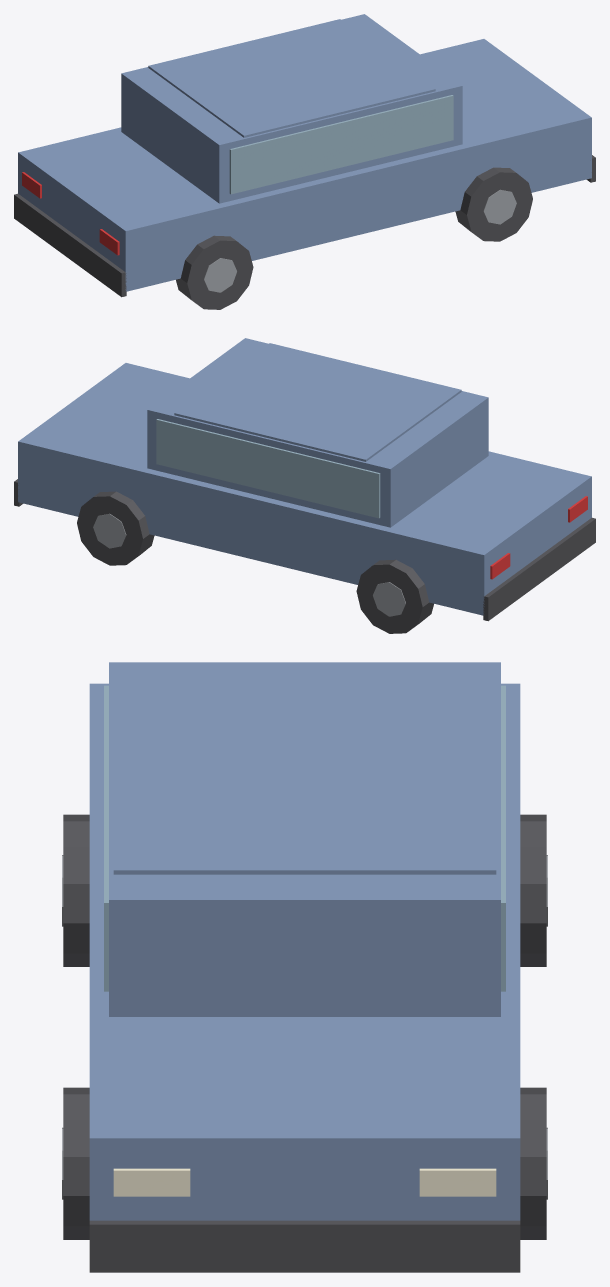
The model's file is dm_carsedan.glb.
3 renders of one model, top to bottom at view 1: azimuth 30°, elevation 25°; view 2: azimuth 150°, elevation 25°; view 3: azimuth 270°, elevation 25°, orthographic. The views are drawn at different scales.
Visible parts, largest first — view 1: carsedan; view 2: carsedan; view 3: carsedan.
Boxes of the visible parts, bbox=[...] form: carsedan: bbox=[14, 14, 595, 309]; carsedan: bbox=[14, 338, 595, 633]; carsedan: bbox=[62, 662, 547, 1272].
Size of the model in its own units: 4.58 by 1.44 by 2.03.
